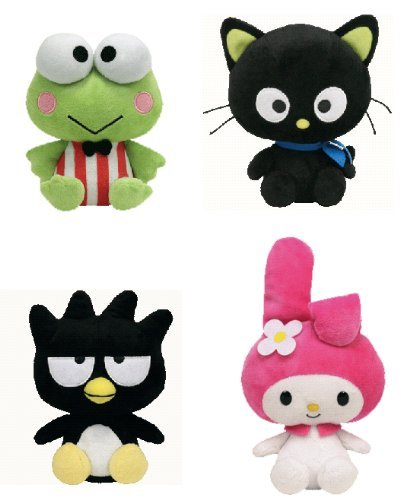batsumaru: (27, 290, 174, 484)
